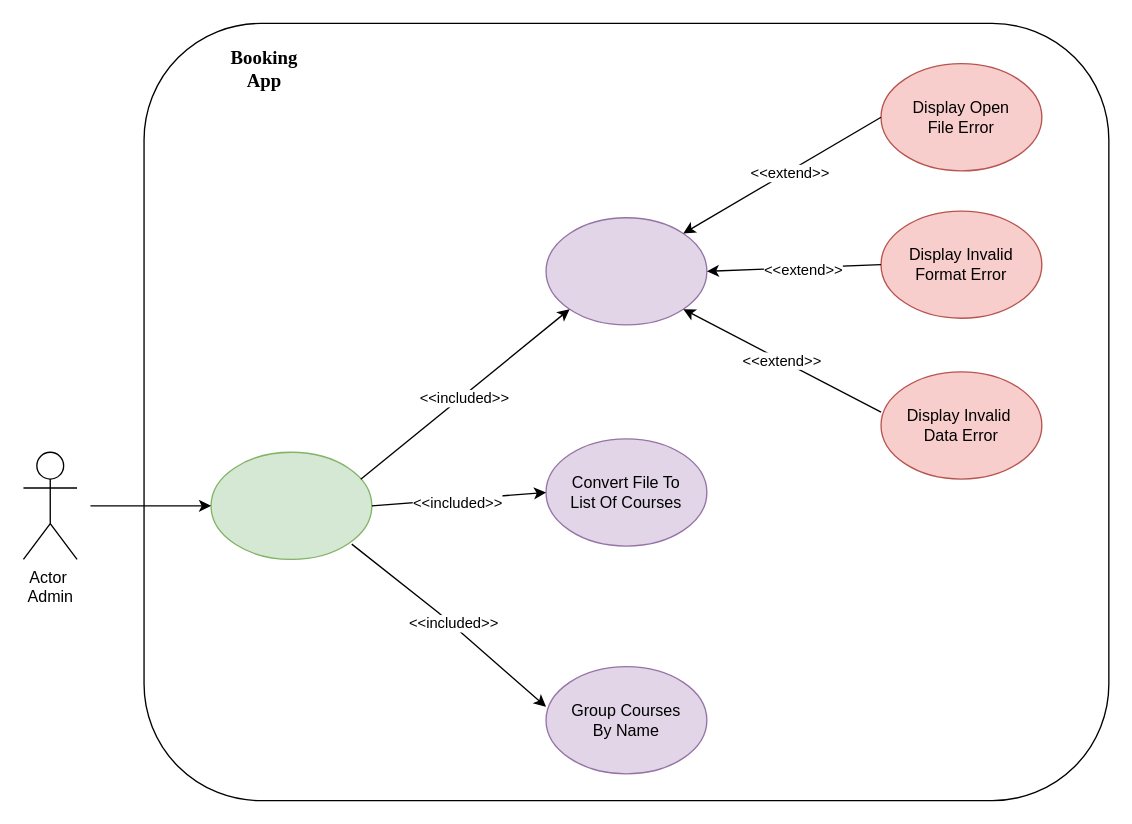
Some shapes in this 1132 by 824 pixel diagram are drawn without their labels. Each missing label, with the centre of its shape:
"Check The File" goes at (x=626, y=270).
"Open A File" goes at (x=291, y=505).
